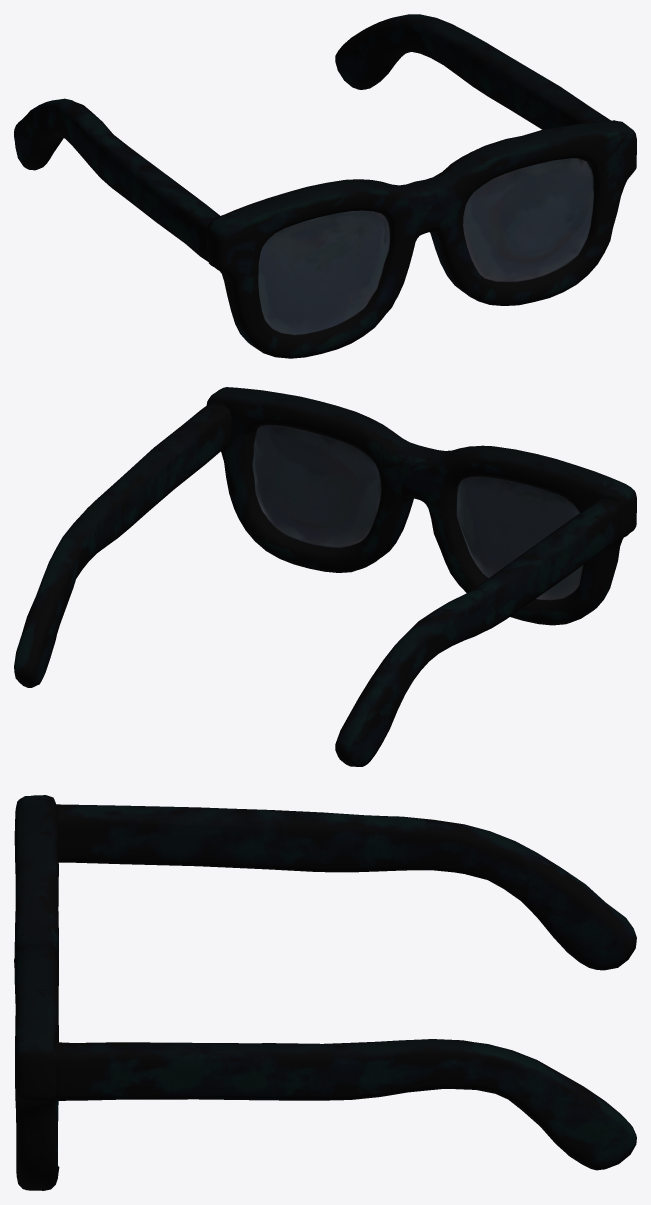
Rendered from face_shades.glb.
3 renders of one model, top to bottom at view 1: azimuth 30°, elevation 25°; view 2: azimuth 150°, elevation 25°; view 3: azimuth 270°, elevation 25°, orthographic. The views are drawn at different scales.
Parts seen in each view (by area): view 1: geometry_0; view 2: geometry_0; view 3: geometry_0.
Part boxes in pixels (box(x1,y1,x2,y2)): geometry_0: box(14, 14, 636, 358); geometry_0: box(14, 387, 636, 766); geometry_0: box(14, 795, 636, 1190).
Size of the model in its own units: 0.9204 by 0.3369 by 0.9458.
1 material, 1 textured.
